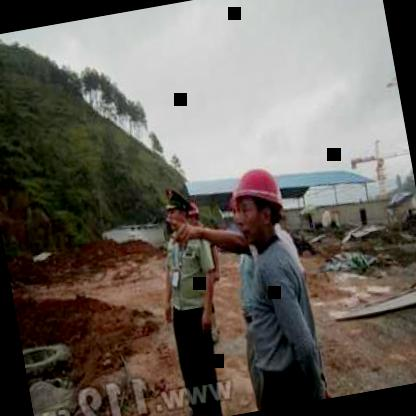helmet: (221, 151, 296, 250)
